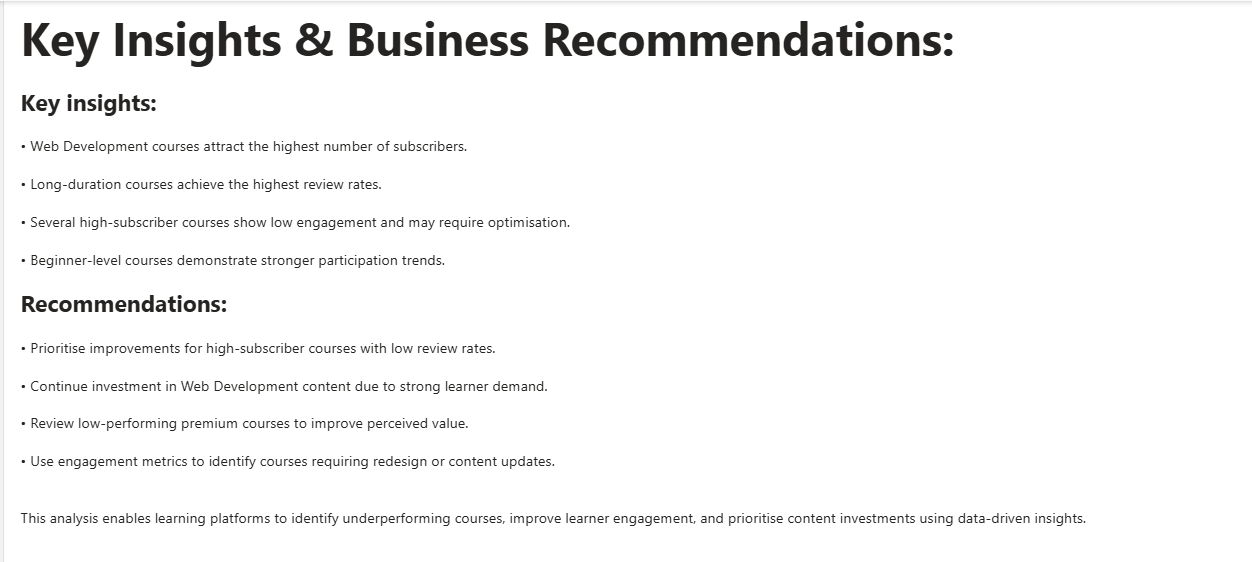

What the dashboard file says about the page in this screenshot:
{"tool":"powerbi","page":{"name":"Insights & Recommendations","canvas":[1280,720],"ordinal":1},"visuals":[{"type":"textbox","box":[10.5,0,1269.8,719.8],"z":0}]}

Visuals, with their boxes on the page's 1280x720 design canvas (x1, y1, x2, y2). These are canvas units, not pixel positions in the 1252x562 screenshot, which may show the page scaled, cropped or inside an application window:
textbox: x1=10, y1=0, x2=1280, y2=720
